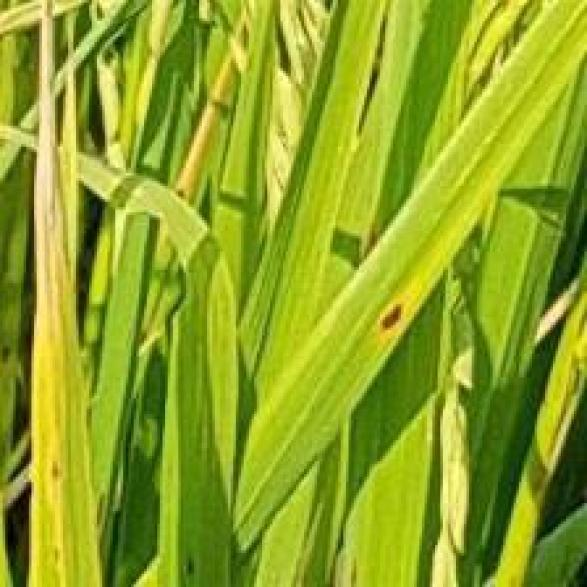Brown_Spot: (367, 288, 406, 335)
